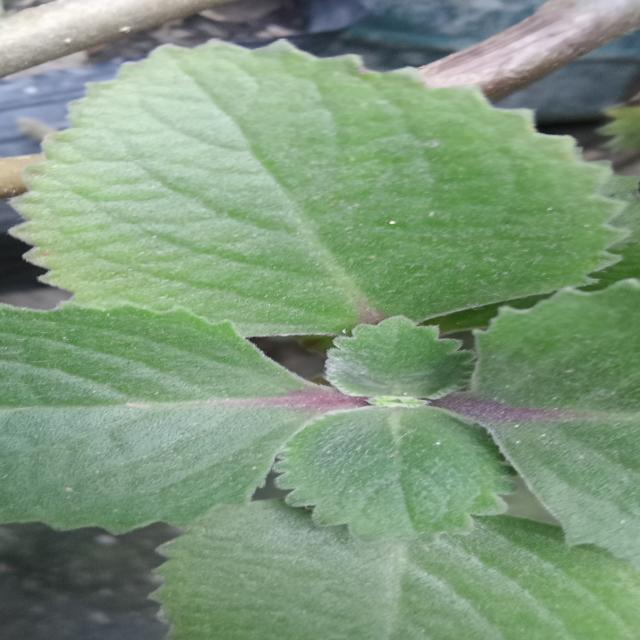Oregano: (29, 31, 626, 514)
